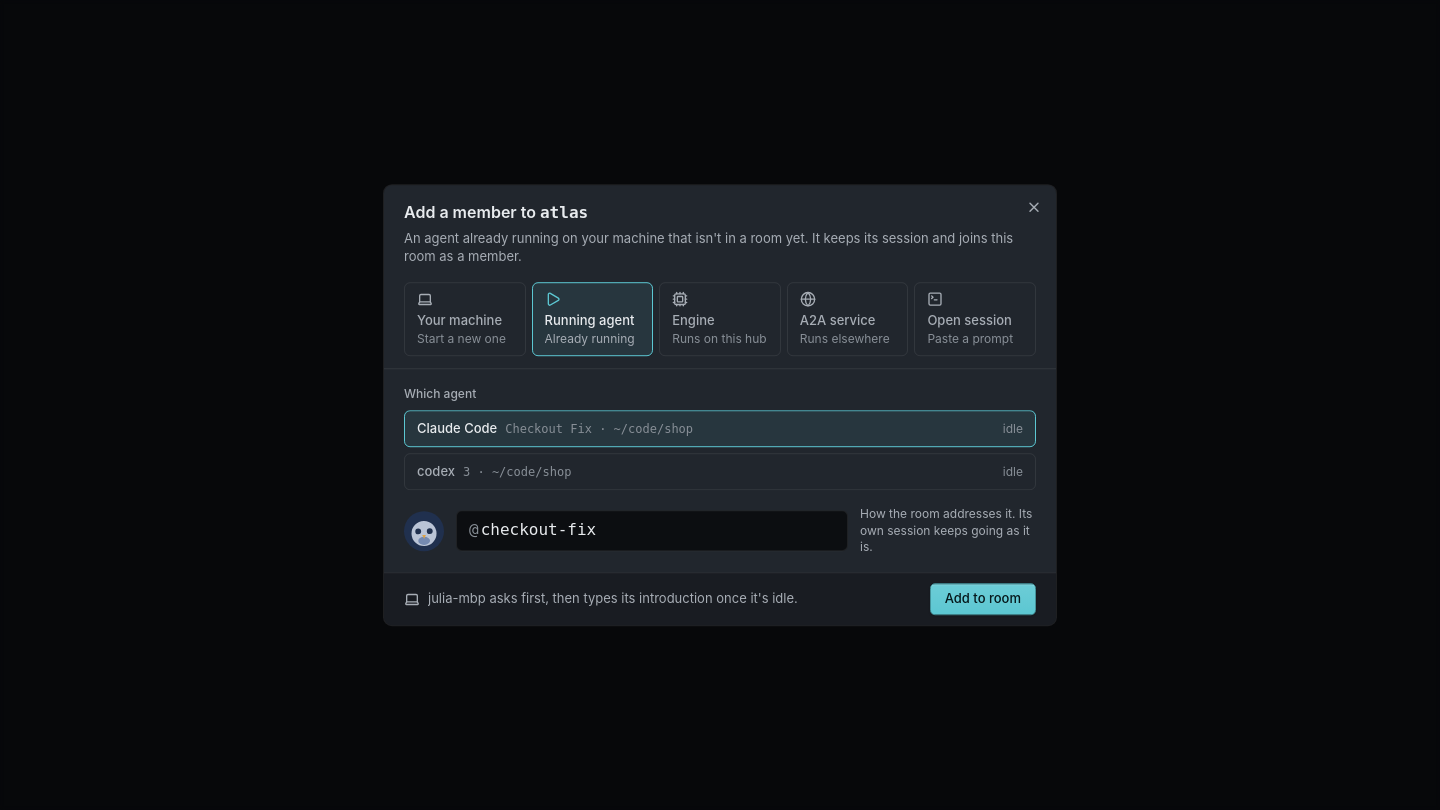
it: AddMemberDialog › brings the picked agent in under the handle you give it
The image size is (1440, 810).
Replace the text in the field named "handle" with "@Shop" at (657, 531), box [479, 512, 835, 550]
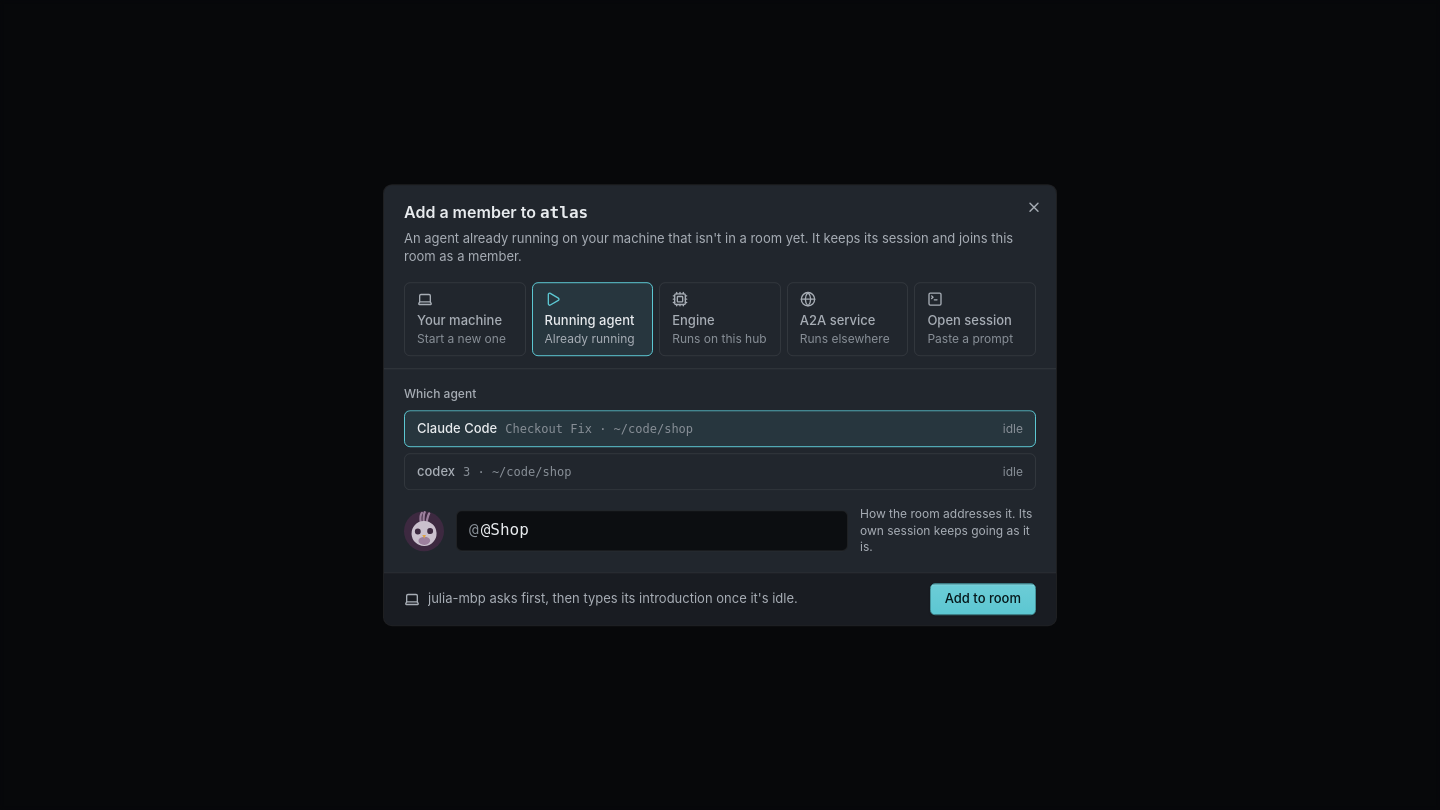
Click the button "Add to room" at (983, 599), box [930, 583, 1036, 615]
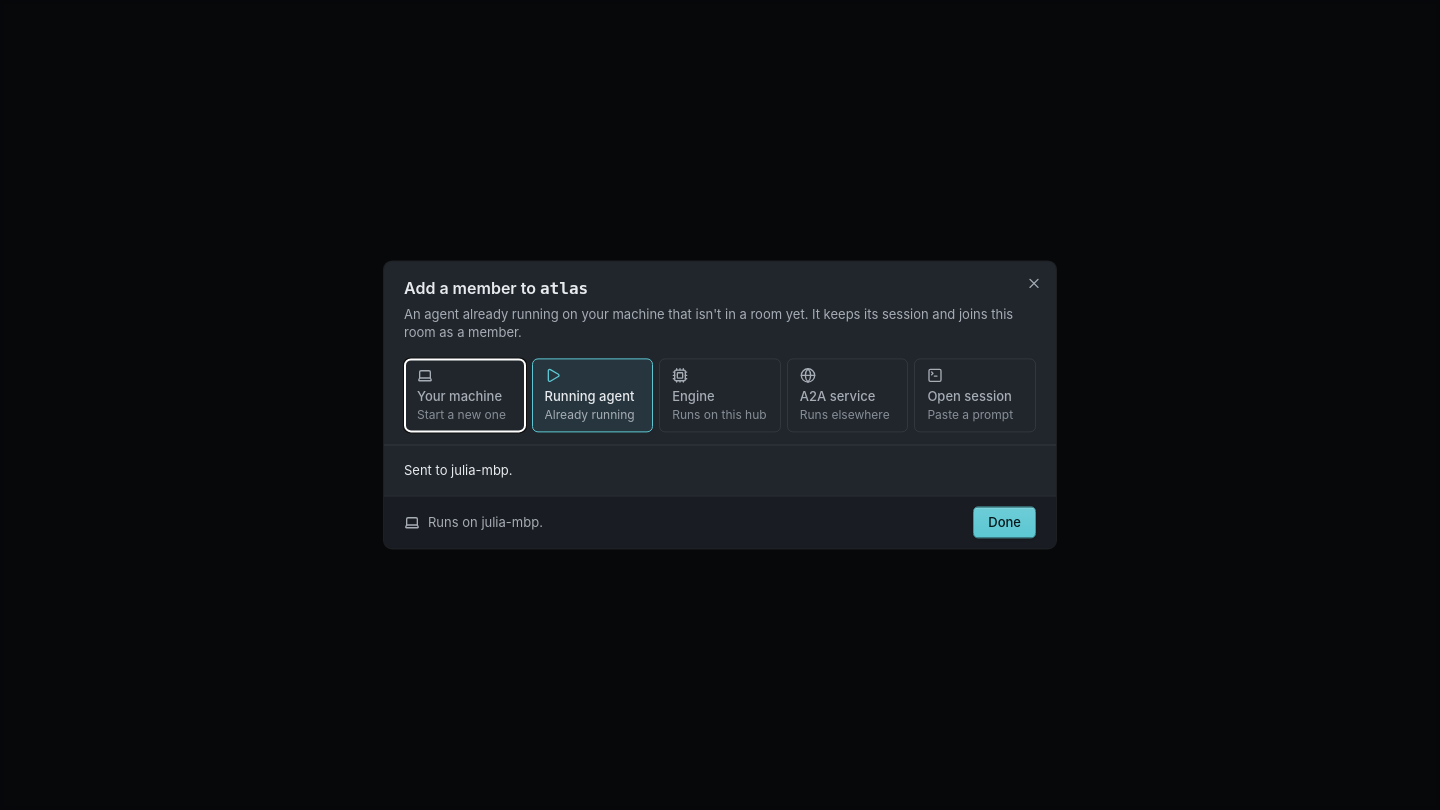
expect the message reads "Sent to julia-mbp.": met, box [404, 462, 513, 478]
